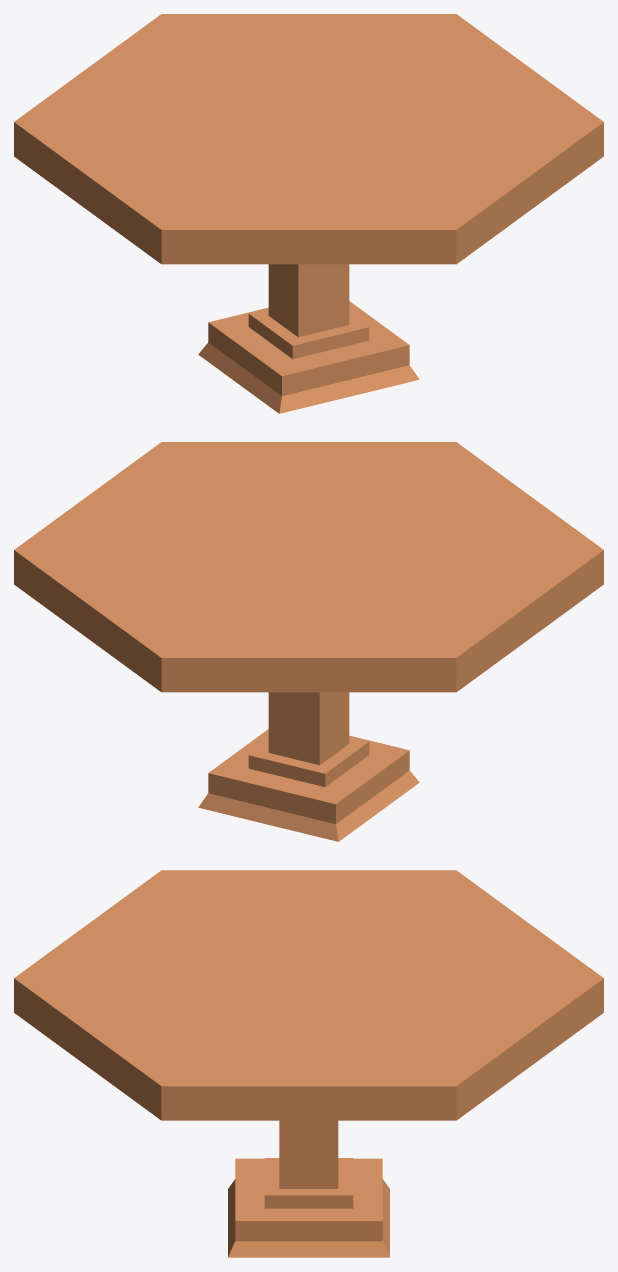
File: tableRound.glb
3 renders of one model, top to bottom at view 1: azimuth 30°, elevation 25°; view 2: azimuth 150°, elevation 25°; view 3: azimuth 270°, elevation 25°, orthographic.
Visible parts, largest first — view 1: tableRound; view 2: tableRound; view 3: tableRound.
Part boxes in pixels (x1=…): tableRound: x1=14, y1=14, x2=603, y2=413; tableRound: x1=14, y1=442, x2=603, y2=841; tableRound: x1=14, y1=870, x2=603, y2=1257.
Size of the model in its own units: 1.39 by 0.7335 by 1.6.
